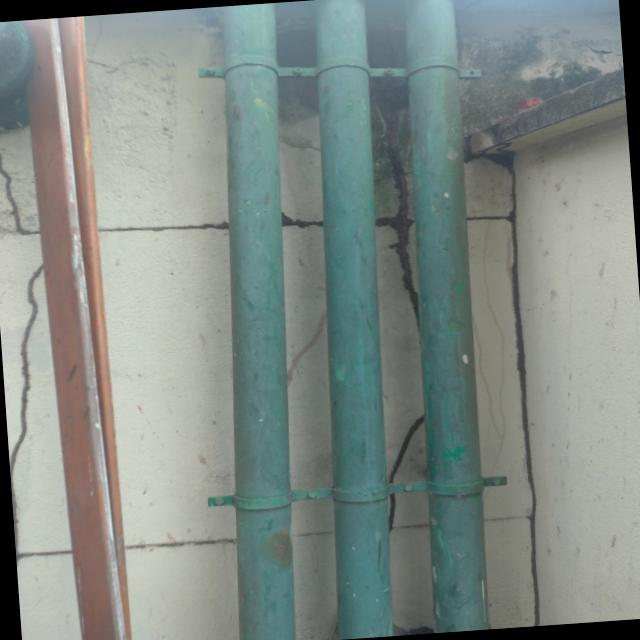gas: (406, 27, 484, 633), (320, 33, 390, 635), (226, 39, 294, 640)
